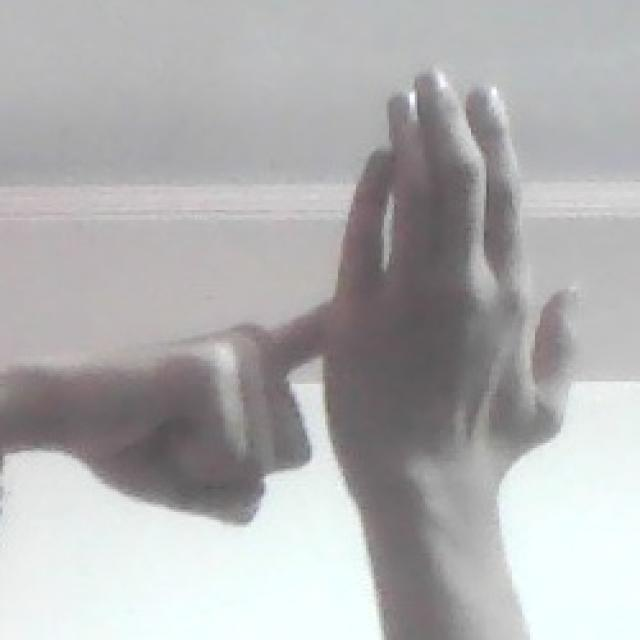Alphabet-R: (65, 77, 608, 582)
